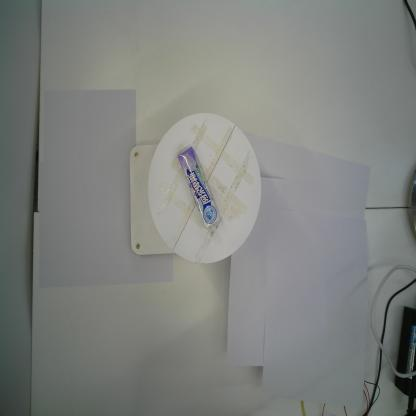Candy: (178, 146, 220, 230)
